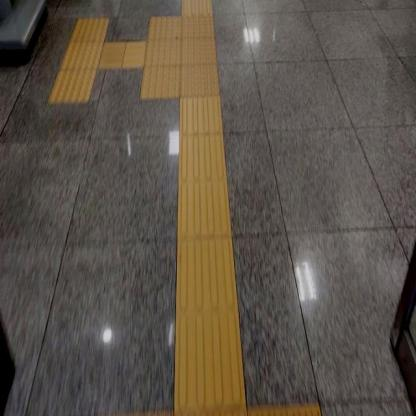podotacti: (173, 97, 249, 409), (131, 0, 237, 120), (55, 21, 111, 96), (106, 40, 144, 65)
